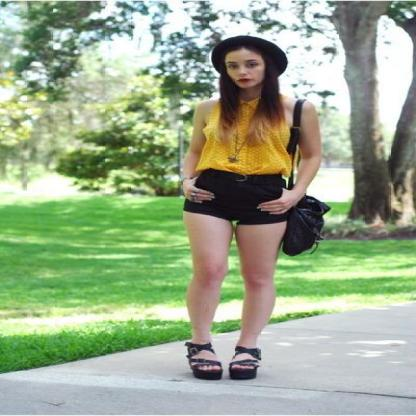bag: (278, 125, 330, 256)
hat: (212, 36, 286, 74)
shirt: (194, 92, 294, 180)
shoe: (180, 341, 261, 381)
shorts: (183, 180, 303, 233)
